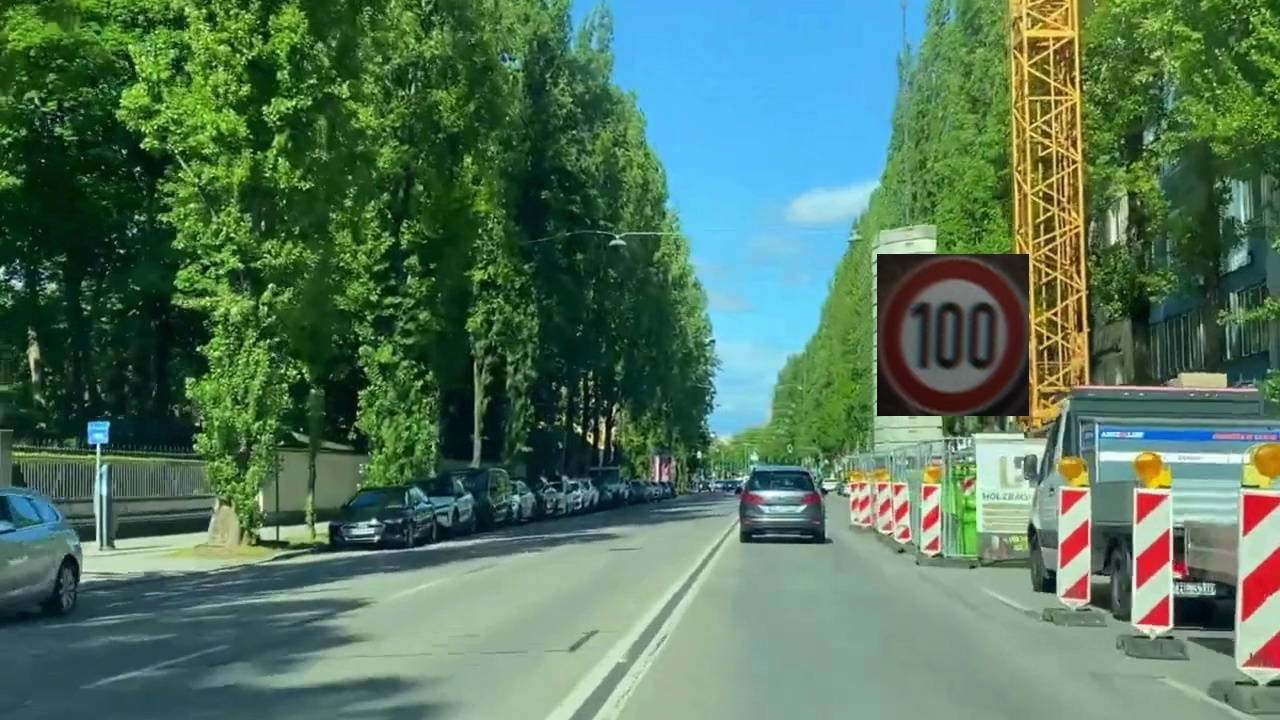Speed 100: (877, 254, 1029, 416)
